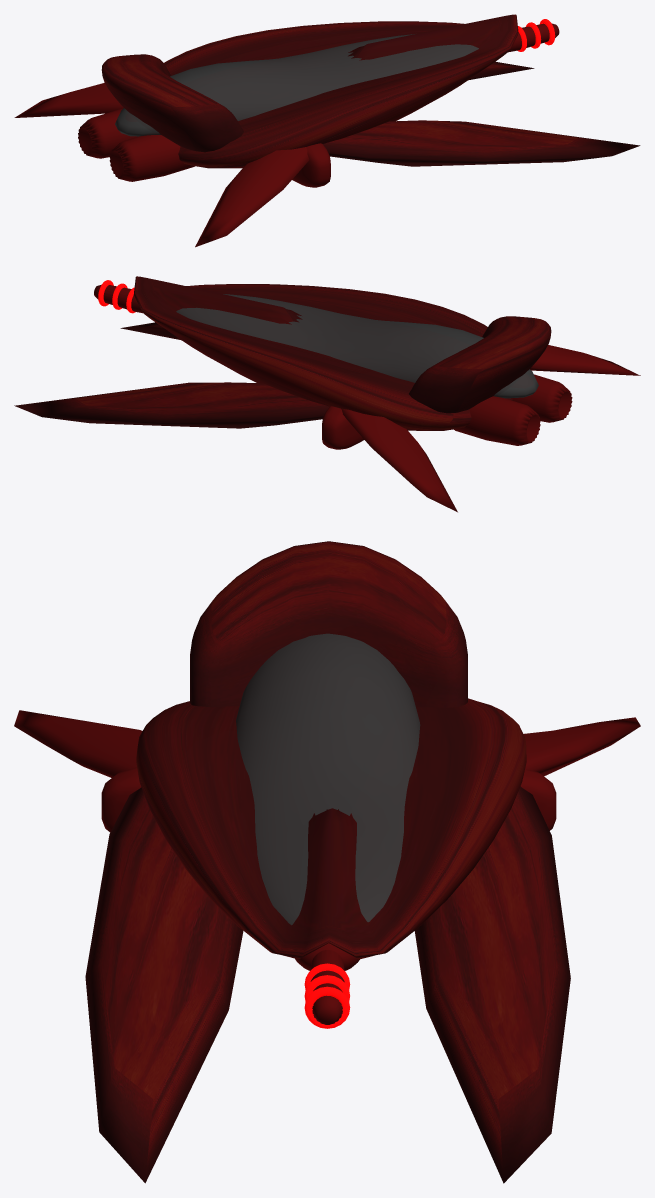
File: crim_light.fbx
3 views of the same model, one above another, from view 1: azimuth 30°, elevation 25°; view 2: azimuth 150°, elevation 25°; view 3: azimuth 270°, elevation 25° (orthographic). The views are drawn at different scales.
Visible parts, largest first — view 1: body, cockpit, arms1, back, arms3, jet2, arms4, jet1, backUnder, turretGun, arms2; view 2: body, cockpit, arms2, back, arms4, jet1, arms3, jet2, backUnder, turretGun, arms1; view 3: body, arms2, arms1, cockpit, back, arms3, arms4, backUnder, turretGun.
Part boxes in pixels (left/top/right/bottom): body: left=164, top=14, right=518, bottom=168; cockpit: left=115, top=34, right=478, bottom=136; arms1: left=323, top=120, right=640, bottom=166; back: left=101, top=54, right=243, bottom=152; arms3: left=195, top=147, right=309, bottom=247; jet2: left=109, top=135, right=194, bottom=181; arms4: left=14, top=82, right=123, bottom=117; jet1: left=78, top=108, right=136, bottom=158; backUnder: left=292, top=143, right=330, bottom=187; turretGun: left=508, top=23, right=559, bottom=52; arms2: left=468, top=61, right=534, bottom=80; body: left=133, top=276, right=512, bottom=430; cockpit: left=176, top=294, right=538, bottom=398; arms2: left=14, top=382, right=329, bottom=428; back: left=409, top=316, right=551, bottom=413; arms4: left=341, top=408, right=457, bottom=512; jet1: left=453, top=396, right=540, bottom=445; arms3: left=530, top=345, right=640, bottom=375; jet2: left=512, top=374, right=572, bottom=422; backUnder: left=322, top=406, right=364, bottom=449; turretGun: left=94, top=284, right=142, bottom=313; arms1: left=120, top=322, right=180, bottom=339; body: left=136, top=698, right=526, bottom=959; arms2: left=414, top=786, right=570, bottom=1183; arms1: left=85, top=787, right=243, bottom=1183; cockpit: left=236, top=633, right=420, bottom=925; back: left=190, top=541, right=467, bottom=707; arms3: left=14, top=710, right=142, bottom=777; arms4: left=523, top=717, right=640, bottom=776; backUnder: left=101, top=767, right=556, bottom=832; turretGun: left=310, top=950, right=344, bottom=1024.
Bounding box in the file's own units: 10.11 × 2.96 × 6.68.
